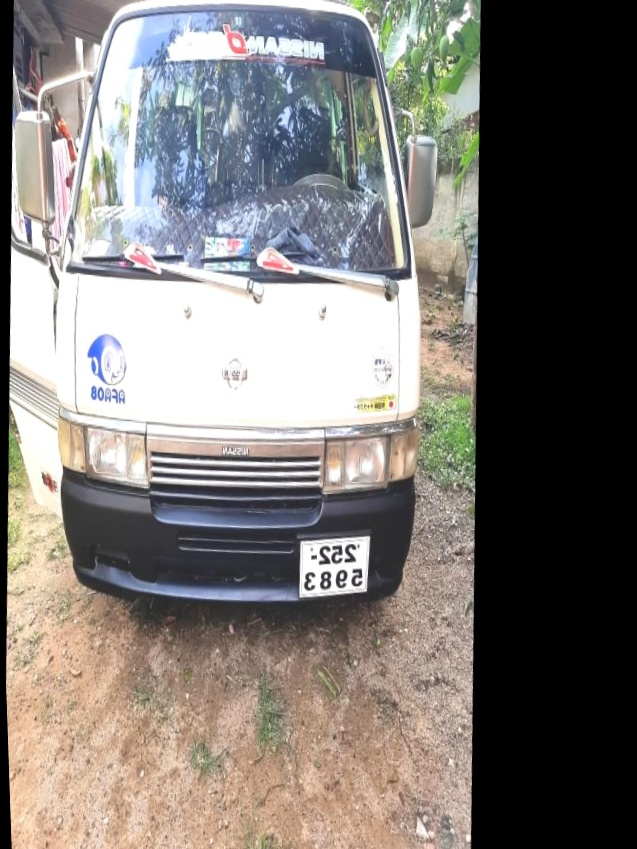van: (24, 0, 455, 666)
